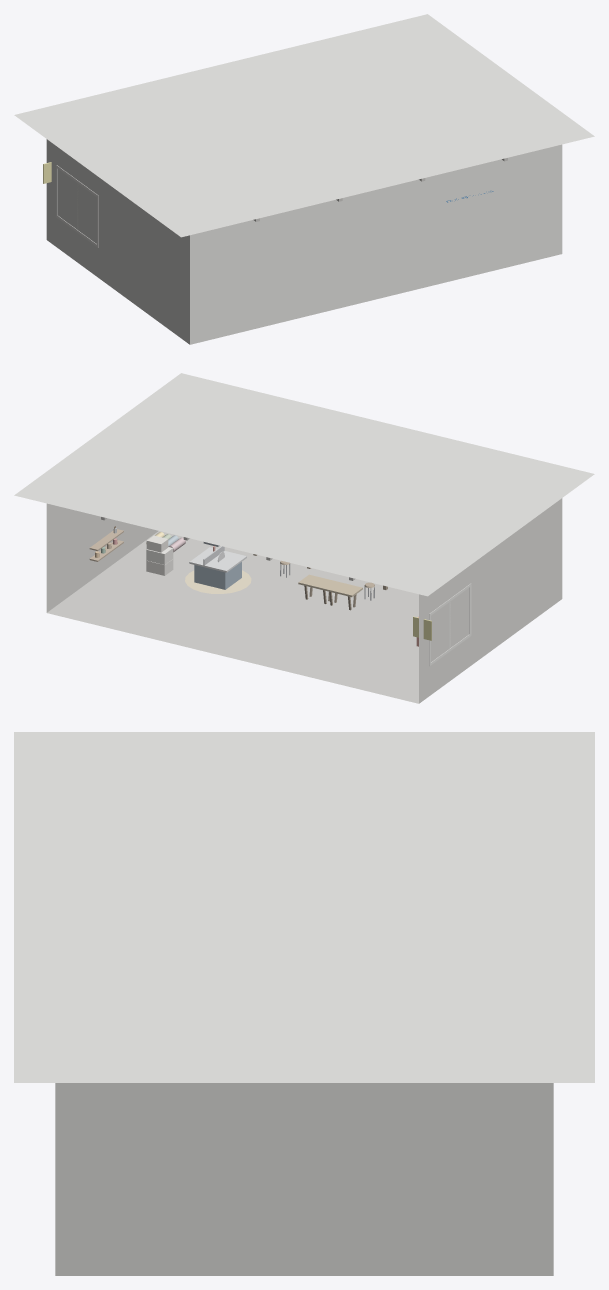
3 views of the same model, one above another, from view 1: azimuth 30°, elevation 25°; view 2: azimuth 150°, elevation 25°; view 3: azimuth 270°, elevation 25° (orthographic). The views are drawn at different scales.
Size of the model in its own units: 20 by 5.62 by 14.
